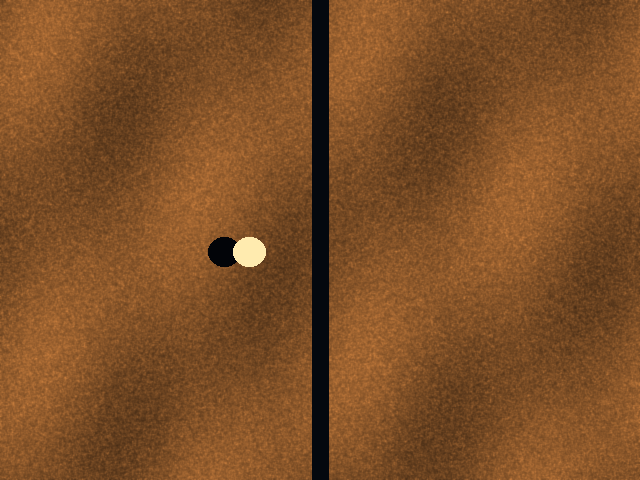Bottle: (233, 237, 265, 266)
